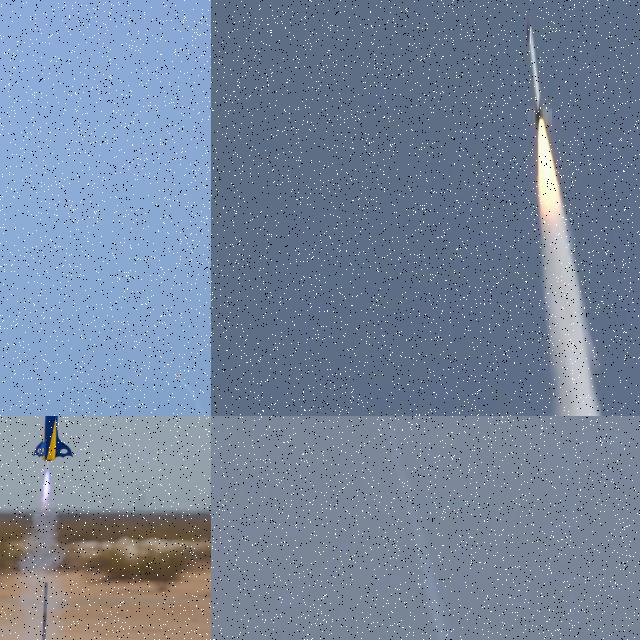Rocket: (526, 17, 554, 132), (32, 416, 73, 462), (174, 374, 181, 378)
